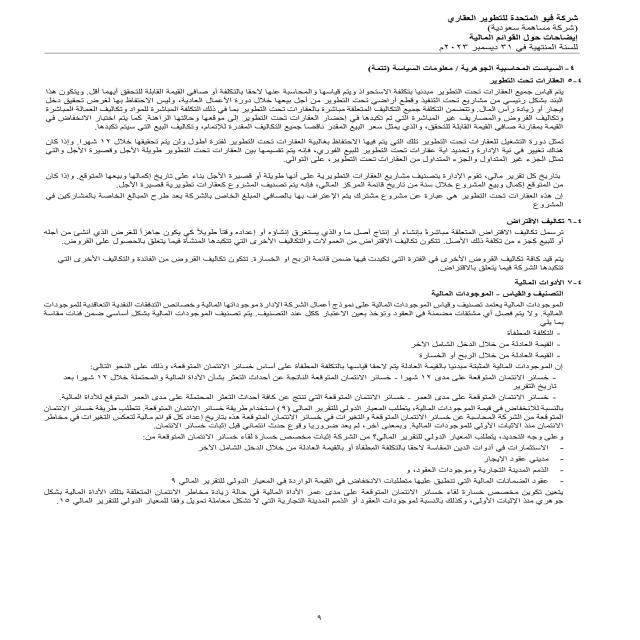notes: (464, 32, 580, 43)
text: (24, 59, 578, 514)
